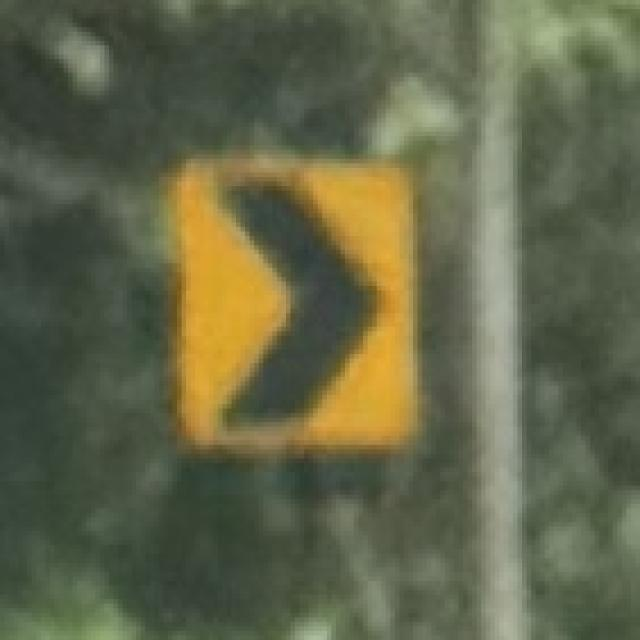TURN_RIGHT: (176, 157, 428, 457)
